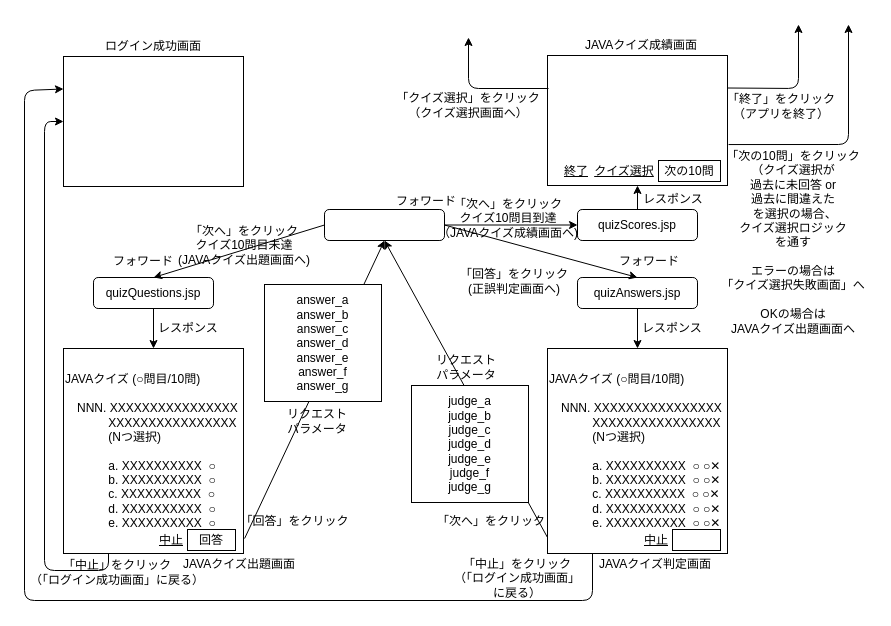
Some shapes in this 891 by 626 pixel diagram are drawn without their labels. The shapes that lost their labels are listed below. From the top down, each one's box as (x1, y1, x2, y2) in pixels, then its label:
(62, 56, 244, 186): ログイン成功 ようこそ{ユーザーID}さん JAVAクイズ(10問)へ トップへ
(546, 54, 728, 186): JAVAクイズ NNN点 XXXXXXXXXXXXXX CCYY/MM/DD NNN点 CCYY/MM/DD NNN点
(324, 208, 444, 240): QuizControlServlet
(672, 528, 720, 550): 次へ
